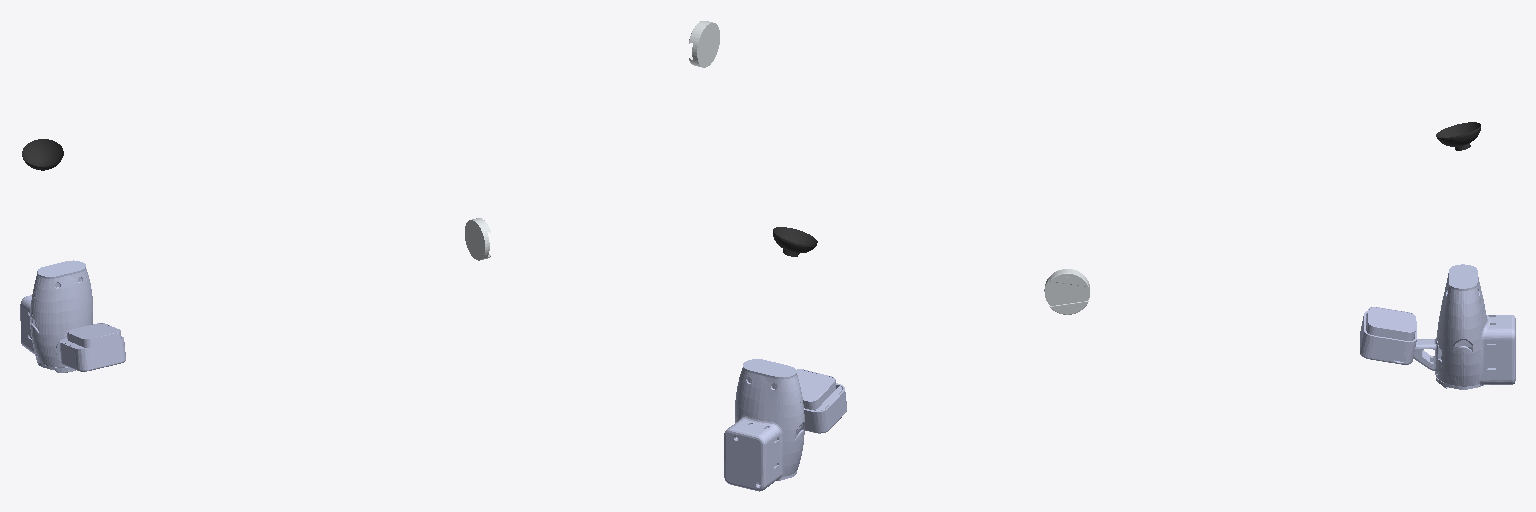
URDF robot description (stretch_description_S3_SG3.SLDASM):
<?xml version="1.0" encoding="utf-8"?>
<!-- This URDF was automatically created by SolidWorks to URDF Exporter! Originally created by [author] ([email redacted]) 
     Commit Version: 1.5.1-0-g916b5db  Build Version: 1.5.7152.31018
     For more information, please see http://wiki.ros.org/sw_urdf_exporter -->
<robot
  name="stretch_description_S3_SG3.SLDASM">
  <link
    name="link_wrist_roll">
    <inertial>
      <origin
        xyz="0.00028287 0.00055747 0.019664"
        rpy="0 0 0" />
      <mass
        value="0.022192" />
      <inertia
        ixx="2.2061E-06"
        ixy="3.0174E-09"
        ixz="-1.8354E-08"
        iyy="2.9144E-06"
        iyz="-4.551E-08"
        izz="4.8373E-06" />
    </inertial>
    <visual>
      <origin
        xyz="0 0 0"
        rpy="0 0 0" />
      <geometry>
        <mesh
          filename="package://stretch_description_S3_SG3.SLDASM/meshes/link_wrist_roll.STL" />
      </geometry>
      <material
        name="">
        <color
          rgba="0.89804 0.91765 0.92941 1" />
      </material>
    </visual>
    <collision>
      <origin
        xyz="0 0 0"
        rpy="0 0 0" />
      <geometry>
        <mesh
          filename="package://stretch_description_S3_SG3.SLDASM/meshes/link_wrist_roll.STL" />
      </geometry>
    </collision>
  </link>
  <link
    name="link_gripper_s3_body">
    <inertial>
      <origin
        xyz="0.00029636 0.0074249 0.044019"
        rpy="0 0 0" />
      <mass
        value="0.289" />
      <inertia
        ixx="0.0004827"
        ixy="-3.0203E-06"
        ixz="6.7386E-07"
        iyy="0.00021343"
        iyz="-1.958E-05"
        izz="0.00037764" />
    </inertial>
    <visual>
      <origin
        xyz="0 0 0"
        rpy="0 0 0" />
      <geometry>
        <mesh
          filename="package://stretch_description_S3_SG3.SLDASM/meshes/link_gripper_s3_body.STL" />
      </geometry>
      <material
        name="">
        <color
          rgba="0.79216 0.81961 0.93333 1" />
      </material>
    </visual>
    <collision>
      <origin
        xyz="0 0 0"
        rpy="0 0 0" />
      <geometry>
        <mesh
          filename="package://stretch_description_S3_SG3.SLDASM/meshes/link_gripper_s3_body.STL" />
      </geometry>
    </collision>
  </link>
  <joint
    name="joint_gripper_s3_body"
    type="fixed">
    <origin
      xyz="0 0 0.0209999999993159"
      rpy="0 0 -3.14159265358975" />
    <parent
      link="link_wrist_roll" />
    <child
      link="link_gripper_s3_body" />
    <axis
      xyz="0 0 0" />
  </joint>
  <link
    name="link_gripper_finger_right">
    <inertial>
      <origin
        xyz="-0.107294725536829 -0.00404012121215261 7.86433341395387E-05"
        rpy="0 0 0" />
      <mass
        value="0.0483698337858479" />
      <inertia
        ixx="3.0603544296956E-06"
        ixy="-8.13967524445938E-07"
        ixz="-6.04746355450674E-08"
        iyy="6.12306677697621E-05"
        iyz="-1.81592899124487E-08"
        izz="6.24670188075471E-05" />
    </inertial>
    <visual>
      <origin
        xyz="0 0 0"
        rpy="0 0 0" />
      <geometry>
        <mesh
          filename="package://stretch_description_S3_SG3.SLDASM/meshes/link_gripper_finger_right.STL" />
      </geometry>
      <material
        name="">
        <color
          rgba="0.792156862745098 0.819607843137255 0.933333333333333 1" />
      </material>
    </visual>
    <collision>
      <origin
        xyz="0 0 0"
        rpy="0 0 0" />
      <geometry>
        <mesh
          filename="package://stretch_description_S3_SG3.SLDASM/meshes/link_gripper_finger_right.STL" />
      </geometry>
    </collision>
  </link>
  <joint
    name="joint_gripper_finger_right"
    type="revolute">
    <origin
      xyz="-0.0246929393014972 0 0.0371909405167257"
      rpy="-1.57079632679513 1.48789318732515 3.14159265358956" />
    <parent
      link="link_gripper_s3_body" />
    <child
      link="link_gripper_finger_right" />
    <axis
      xyz="0 0 -1" />
    <limit
      lower="0"
      upper="0"
      effort="0"
      velocity="0" />
  </joint>
  <link
    name="link_gripper_fingertip_right">
    <inertial>
      <origin
        xyz="2.8647736627363E-08 -9.47712441856652E-09 0.00812577933915037"
        rpy="0 0 0" />
      <mass
        value="0.00382162062525088" />
      <inertia
        ixx="4.13411802118931E-07"
        ixy="3.48038375310838E-16"
        ixz="-5.14102948422526E-13"
        iyy="4.13411799815932E-07"
        iyz="1.76223254856489E-13"
        izz="7.08442016110623E-07" />
    </inertial>
    <visual>
      <origin
        xyz="0 0 0"
        rpy="0 0 0" />
      <geometry>
        <mesh
          filename="package://stretch_description_S3_SG3.SLDASM/meshes/link_gripper_fingertip_right.STL" />
      </geometry>
      <material
        name="">
        <color
          rgba="0.250980392156863 0.250980392156863 0.250980392156863 1" />
      </material>
    </visual>
    <collision>
      <origin
        xyz="0 0 0"
        rpy="0 0 0" />
      <geometry>
        <mesh
          filename="package://stretch_description_S3_SG3.SLDASM/meshes/link_gripper_fingertip_right.STL" />
      </geometry>
    </collision>
  </link>
  <joint
    name="joint_gripper_fingertip_right"
    type="fixed">
    <origin
      xyz="-0.177784508377902 -0.0106721811879468 0"
      rpy="-1.5707963267949 0 0.261799387799172" />
    <parent
      link="link_gripper_finger_right" />
    <child
      link="link_gripper_fingertip_right" />
    <axis
      xyz="0 0 0" />
  </joint>
  <link
    name="link_gripper_finger_left">
    <inertial>
      <origin
        xyz="0.107294715994863 -0.00404011929289155 7.86443400617731E-05"
        rpy="0 0 0" />
      <mass
        value="0.0483698266031602" />
      <inertia
        ixx="3.06035472000871E-06"
        ixy="8.13968102368408E-07"
        ixz="6.04787443258658E-08"
        iyy="6.12306675643124E-05"
        iyz="-1.81596824851191E-08"
        izz="6.24670194741309E-05" />
    </inertial>
    <visual>
      <origin
        xyz="0 0 0"
        rpy="0 0 0" />
      <geometry>
        <mesh
          filename="package://stretch_description_S3_SG3.SLDASM/meshes/link_gripper_finger_left.STL" />
      </geometry>
      <material
        name="">
        <color
          rgba="0.792156862745098 0.819607843137255 0.933333333333333 1" />
      </material>
    </visual>
    <collision>
      <origin
        xyz="0 0 0"
        rpy="0 0 0" />
      <geometry>
        <mesh
          filename="package://stretch_description_S3_SG3.SLDASM/meshes/link_gripper_finger_left.STL" />
      </geometry>
    </collision>
  </link>
  <joint
    name="joint_gripper_finger_left"
    type="revolute">
    <origin
      xyz="0.0245029393015013 0 0.0371909405167127"
      rpy="-1.57079632679523 -1.48789318734672 -3.14159265358946" />
    <parent
      link="link_gripper_s3_body" />
    <child
      link="link_gripper_finger_left" />
    <axis
      xyz="0 0 1" />
    <limit
      lower="0"
      upper="0"
      effort="0"
      velocity="0" />
  </joint>
  <link
    name="link_gripper_fingertip_left">
    <inertial>
      <origin
        xyz="0.00812577954079277 5.08145192590348E-11 3.08744215749002E-08"
        rpy="0 0 0" />
      <mass
        value="0.00382162054362131" />
      <inertia
        ixx="7.08442015318697E-07"
        ixy="-2.69125824212631E-15"
        ixz="-5.82452885562068E-13"
        iyy="4.13411804994625E-07"
        iyz="-2.84829221456917E-16"
        izz="4.13411804440645E-07" />
    </inertial>
    <visual>
      <origin
        xyz="0 0 0"
        rpy="0 0 0" />
      <geometry>
        <mesh
          filename="package://stretch_description_S3_SG3.SLDASM/meshes/link_gripper_fingertip_left.STL" />
      </geometry>
      <material
        name="">
        <color
          rgba="0.250980392156863 0.250980392156863 0.250980392156863 1" />
      </material>
    </visual>
    <collision>
      <origin
        xyz="0 0 0"
        rpy="0 0 0" />
      <geometry>
        <mesh
          filename="package://stretch_description_S3_SG3.SLDASM/meshes/link_gripper_fingertip_left.STL" />
      </geometry>
    </collision>
  </link>
  <joint
    name="joint_gripper_fingertip_left"
    type="fixed">
    <origin
      xyz="0.177784508377884 -0.0106721811879429 0"
      rpy="1.8123098697462 0 1.30899693899575" />
    <parent
      link="link_gripper_finger_left" />
    <child
      link="link_gripper_fingertip_left" />
    <axis
      xyz="0 0 0" />
  </joint>
</robot>

--- Render facts (derived) ---
Views: 3 orthographic renders of the robot side by side, from view 1: azimuth 30°, elevation 25°; view 2: azimuth 150°, elevation 25°; view 3: azimuth 270°, elevation 25°.
Model stretch_description_S3_SG3.SLDASM with 6 links and 5 joints (2 revolute, 3 fixed), rooted at link_wrist_roll, posed every joint at zero.
Visible links, largest first — view 1: link_gripper_s3_body, link_gripper_fingertip_left, link_wrist_roll; view 2: link_gripper_s3_body, link_wrist_roll, link_gripper_fingertip_left; view 3: link_gripper_s3_body, link_wrist_roll, link_gripper_fingertip_left.
Link boxes in pixels (x1,y1,x2,y2): link_gripper_s3_body: [20, 260, 125, 372]; link_gripper_fingertip_left: [22, 139, 63, 170]; link_wrist_roll: [465, 218, 490, 260]; link_gripper_s3_body: [724, 359, 846, 491]; link_wrist_roll: [689, 21, 719, 67]; link_gripper_fingertip_left: [773, 227, 817, 256]; link_gripper_s3_body: [1360, 264, 1515, 389]; link_wrist_roll: [1044, 269, 1089, 314]; link_gripper_fingertip_left: [1436, 122, 1480, 150].
Bounding box of the posed robot: 0.3124 × 0.41 × 0.2371 m (x, y, z).
3 mesh visuals loaded from 6 distinct referenced files (3 binary STL); not drawn: 3 (reference not matched to a file when rendering).